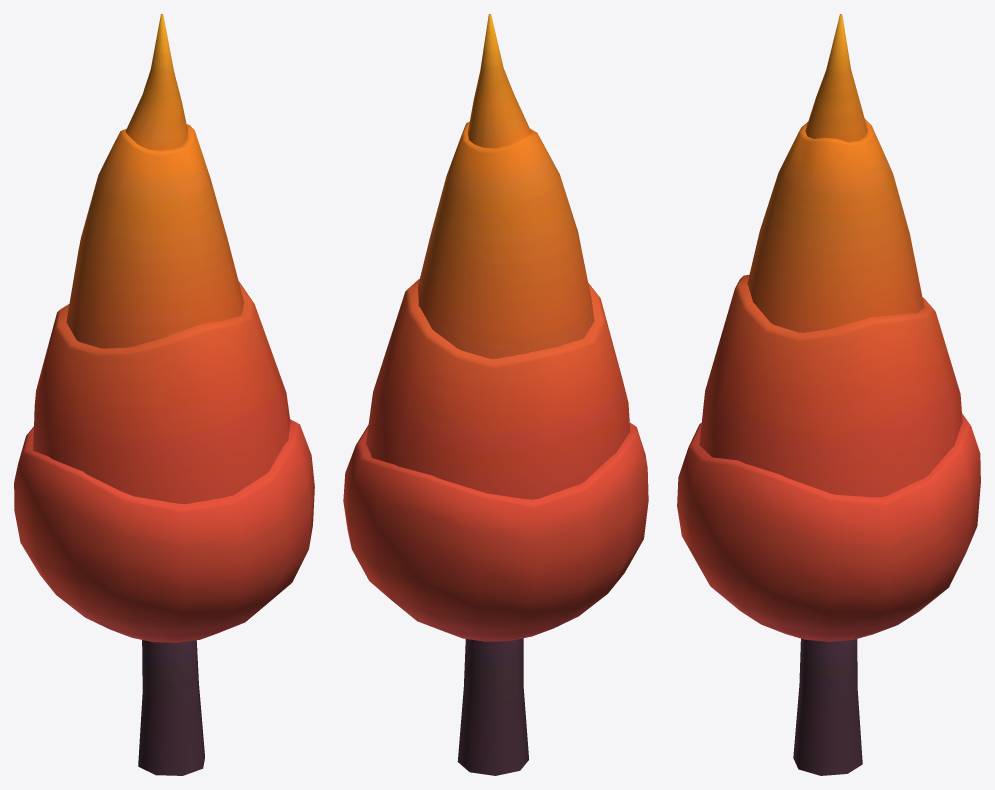
Rendered from Tree_5.fbx.
The picture shows the model from 3 angles, left to right: view 1: azimuth 30°, elevation 25°; view 2: azimuth 150°, elevation 25°; view 3: azimuth 270°, elevation 25°; orthographic projection.
Parts seen in each view (by area): view 1: Tree_5; view 2: Tree_5; view 3: Tree_5.
Boxes of the visible parts, left/top/right/bottom form: Tree_5: left=14, top=14, right=314, bottom=775; Tree_5: left=343, top=14, right=648, bottom=775; Tree_5: left=677, top=14, right=980, bottom=775.
Bounding box in the file's own units: 144 × 390 × 144.
